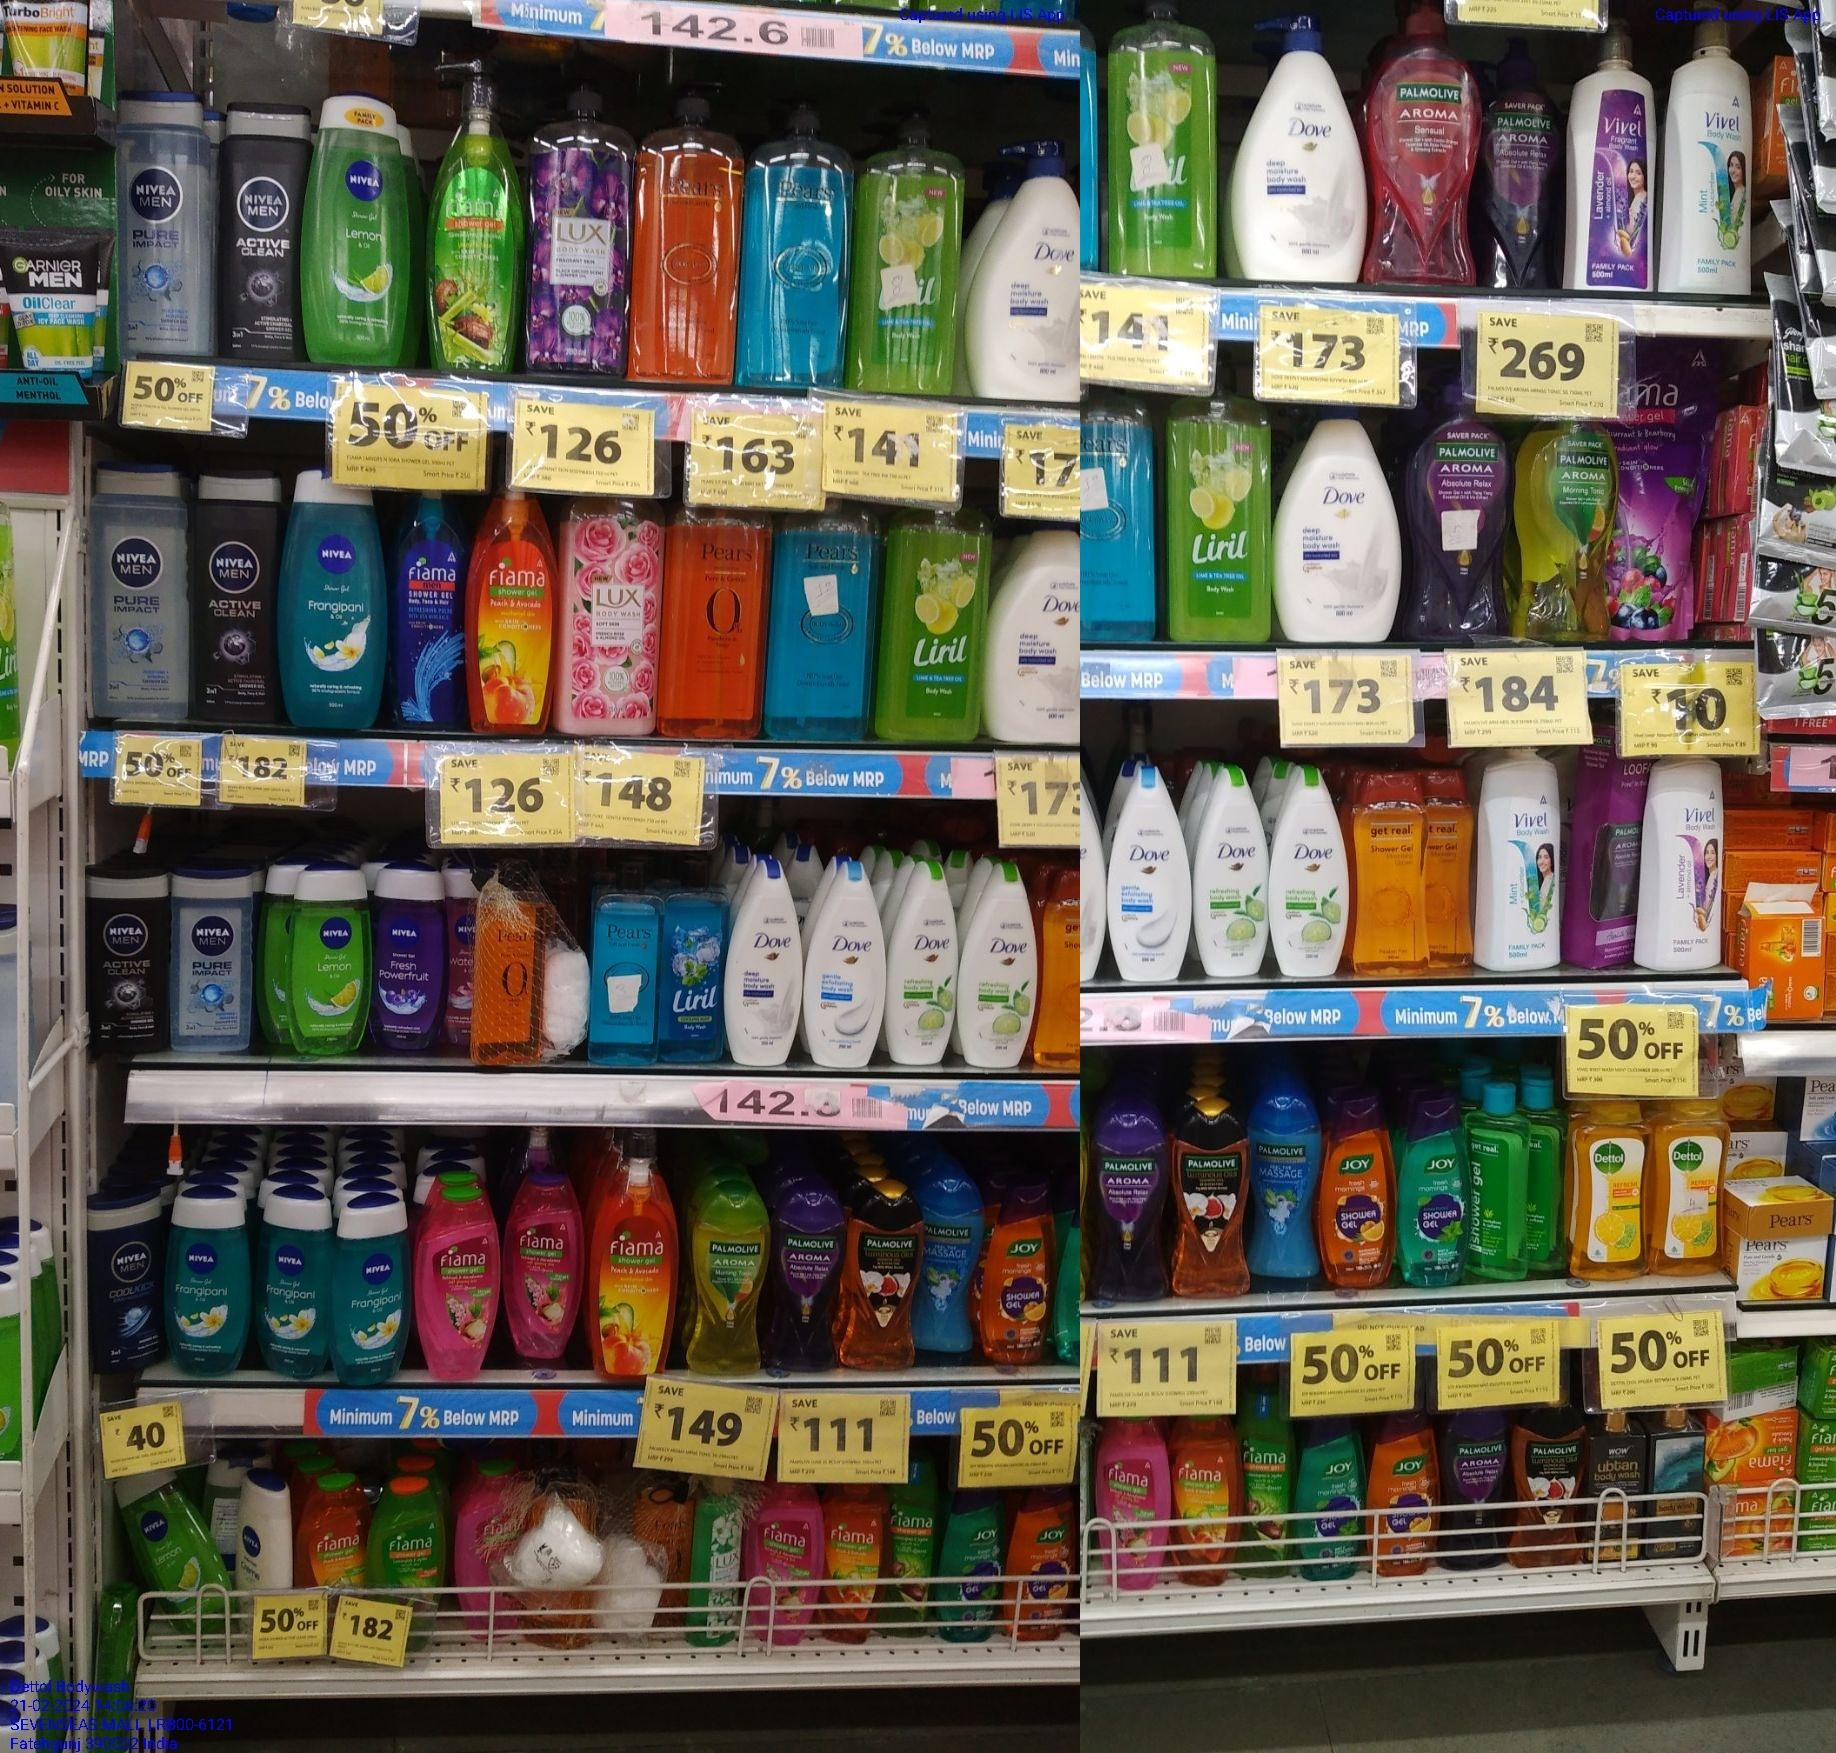Dettol_Bodywash_Refresh: (1567, 1097, 1651, 1279), (1649, 1100, 1729, 1277)
Dove_Deep_Moisture_Body_Wash_250ML: (725, 858, 803, 1064)
Dove_Gentle_Exfoliating_Body_Wash_250ML: (1107, 763, 1192, 984), (802, 858, 887, 1068)
Dove_Refreshing_Body_Wash_250ML: (1267, 763, 1347, 974), (961, 863, 1038, 1071), (1193, 764, 1266, 977), (887, 861, 961, 1068)
Fiama_Shower_Gel_Lemongrass_and_Jojoba_250ML: (364, 1476, 448, 1586)
Fiama_Shower_Gel_Patchouli_and_Macadamia_250ML: (413, 1184, 502, 1381), (502, 1169, 582, 1366), (1095, 1420, 1172, 1589)
Fiama_Shower_Gel_Peach_and_Avocado_250ML: (1174, 1415, 1241, 1591)
Get_Real_Shower_Gel_Moisturising_Glycerin_300ML: (1349, 766, 1429, 976)
Joy_Shower_Gel_Mandarin_and_Lemongrass_250ML: (980, 1171, 1057, 1371), (1325, 1094, 1397, 1287), (1364, 1412, 1438, 1582), (1005, 1487, 1077, 1643)
Joy_Shower_Gel_Mint_and_Eucalyptus_250ML: (1397, 1091, 1470, 1287), (1290, 1418, 1364, 1582), (936, 1491, 1003, 1645)
Liril_Cooling_Mint_Body_Wash_250ML: (664, 864, 725, 1066)
Liril_Lime_and_Tea_Tree_Oil_Body_Wash_250ML: (879, 505, 992, 743), (1166, 395, 1270, 648)
Nivea_Shower_Gel_Frangipani_and_Oil_250ML: (274, 484, 390, 731), (161, 1184, 252, 1377), (331, 1192, 411, 1386), (254, 1181, 331, 1382)
Nivea_Shower_Gel_Fresh_Powerfruit_250ML: (367, 866, 444, 1050)
Nivea_Shower_Gel_Lemon_and_Oil_250ML: (298, 92, 411, 364), (284, 864, 372, 1058)
Palmolive_Aroma_Moments_Feel_The_Massage_Shower_Gel_250ML: (1247, 1081, 1320, 1279)
Palmolive_Aroma_Morning_Tonic_Shower_Gel_250ML: (1511, 418, 1621, 646), (687, 1179, 770, 1377)
Palmolive_Aroma_Relax_250ML: (1397, 413, 1511, 644), (1087, 1104, 1167, 1300), (769, 1184, 848, 1376), (1438, 1412, 1510, 1571)
Palmolive_Luminous_Oils_With_White_Orchid_Shower_Gel_250ML: (1167, 1097, 1251, 1295), (844, 1179, 920, 1371), (1511, 1404, 1584, 1568)
Pears_Pure_Glycerin_and_Mint_Extracts_Body_Wash_250ML: (764, 513, 877, 743), (590, 864, 662, 1064)
